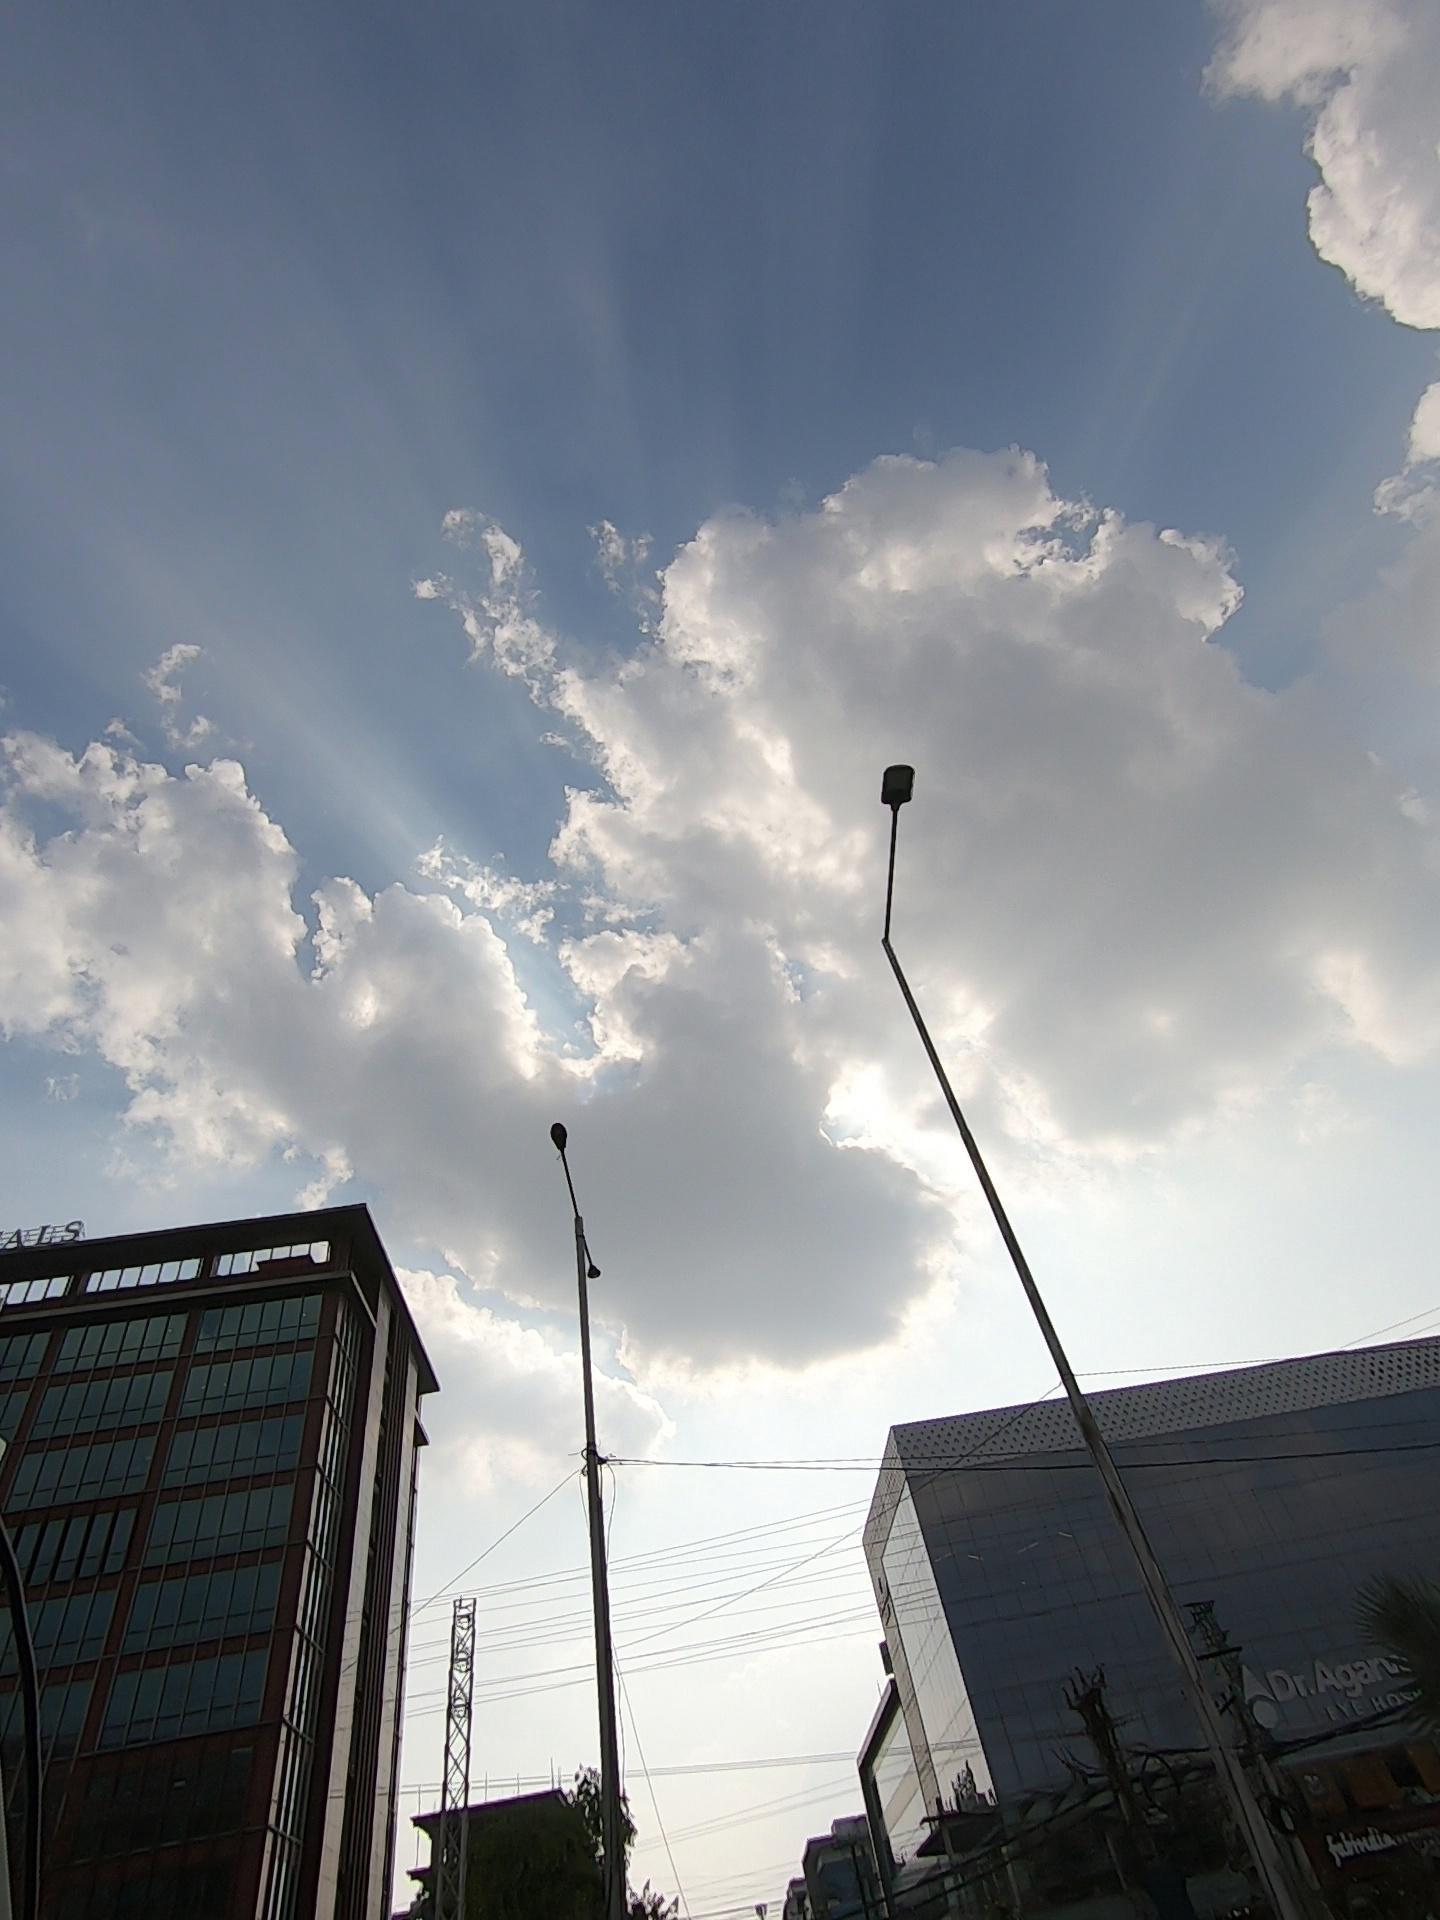off: (510, 1031, 676, 1359), (774, 732, 956, 972)
